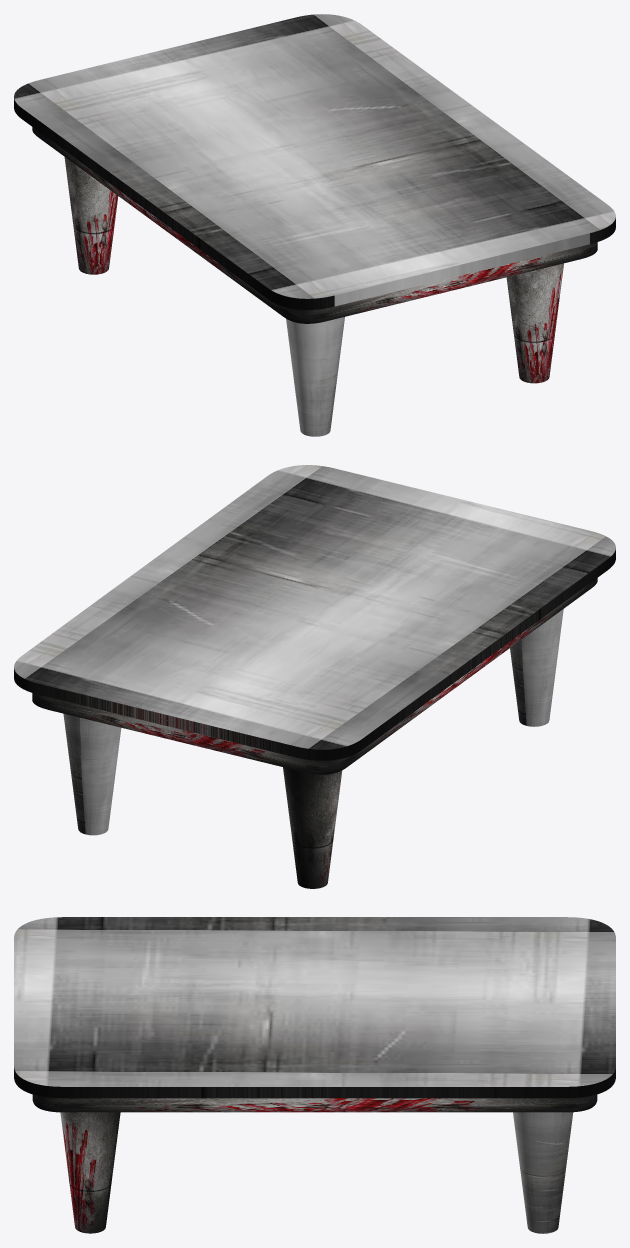
The model's file is TAWLA.fbx.
The picture shows the model from 3 angles, top to bottom: view 1: azimuth 30°, elevation 25°; view 2: azimuth 150°, elevation 25°; view 3: azimuth 270°, elevation 25°; orthographic projection. The views are drawn at different scales.
Visible parts, largest first — view 1: Box001; view 2: Box001; view 3: Box001.
Part boxes in pixels (x1=…): Box001: x1=14, y1=14, x2=615, y2=436; Box001: x1=14, y1=465, x2=615, y2=888; Box001: x1=14, y1=917, x2=615, y2=1233.
Size of the model in its own units: 8.58 by 12.86 by 4.02.
